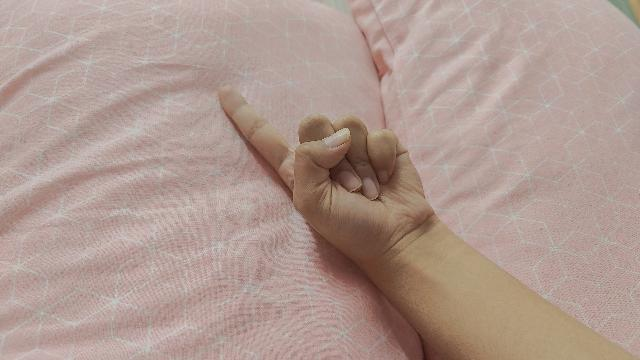soochi: (218, 88, 640, 360)
